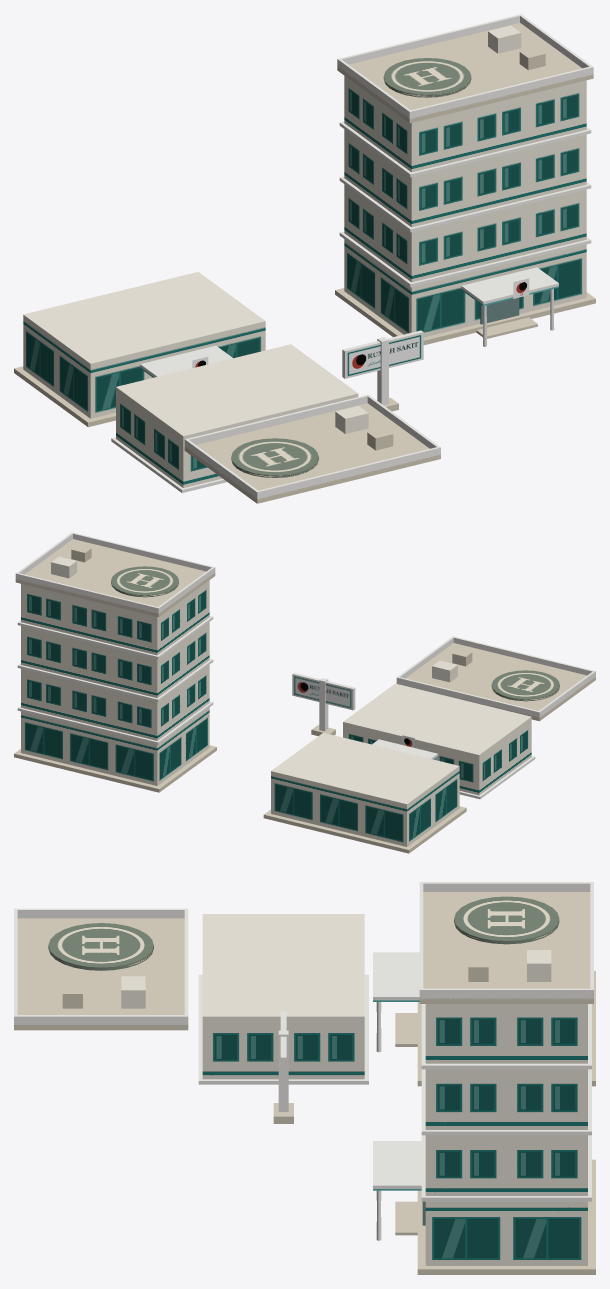
File: kit-9-rumah-sakit.glb
3 views of the same model, one above another, from view 1: azimuth 30°, elevation 25°; view 2: azimuth 150°, elevation 25°; view 3: azimuth 270°, elevation 25° (orthographic). The views are drawn at different scales.
Parts seen in each view (by area): view 1: RS_Contoh_4Lantai, RS_LantaiDasar, RS_LantaiAtas, RS_Atap, RS_Sign; view 2: RS_Contoh_4Lantai, RS_LantaiDasar, RS_LantaiAtas, RS_Atap, RS_Sign; view 3: RS_Contoh_4Lantai, RS_LantaiAtas, RS_Atap, RS_LantaiDasar, RS_Sign.
Part boxes in pixels (box(x1,y1,x2,y2)): RS_Contoh_4Lantai: box(335, 14, 595, 346); RS_LantaiDasar: box(14, 272, 265, 427); RS_LantaiAtas: box(111, 344, 358, 492); RS_Atap: box(184, 394, 440, 503); RS_Sign: box(342, 330, 423, 411); RS_Contoh_4Lantai: box(14, 532, 216, 792); RS_LantaiDasar: box(263, 733, 466, 853); RS_LantaiAtas: box(343, 683, 535, 799); RS_Atap: box(396, 636, 595, 721); RS_Sign: box(292, 672, 355, 736); RS_Contoh_4Lantai: box(373, 882, 595, 1274); RS_LantaiAtas: box(198, 914, 368, 1084); RS_Atap: box(14, 908, 188, 1030); RS_LantaiDasar: box(373, 952, 595, 1086); RS_Sign: box(273, 1011, 293, 1123).
Bounding box in the file's own units: 34.8 × 16 × 28.7.
Materials: 10 (5 with a texture image).
